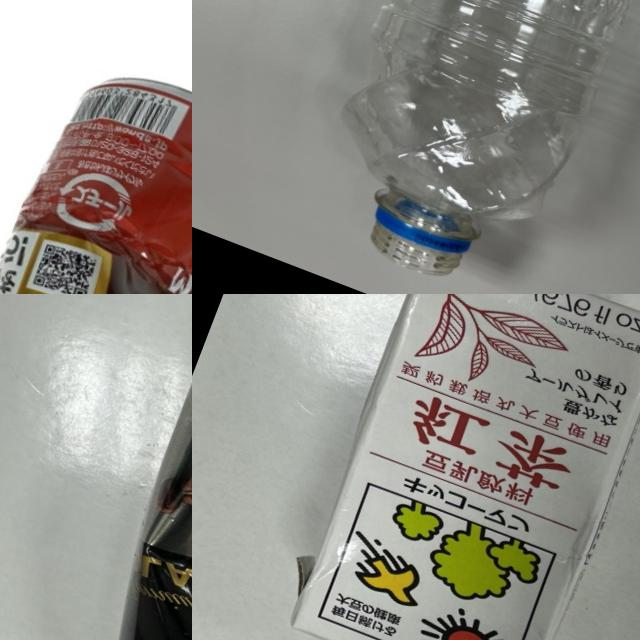Aluminium Foil: (281, 294, 640, 640)
Can: (0, 43, 192, 294), (70, 330, 192, 640)
Transparent Plastic Bottle: (296, 0, 640, 294)
